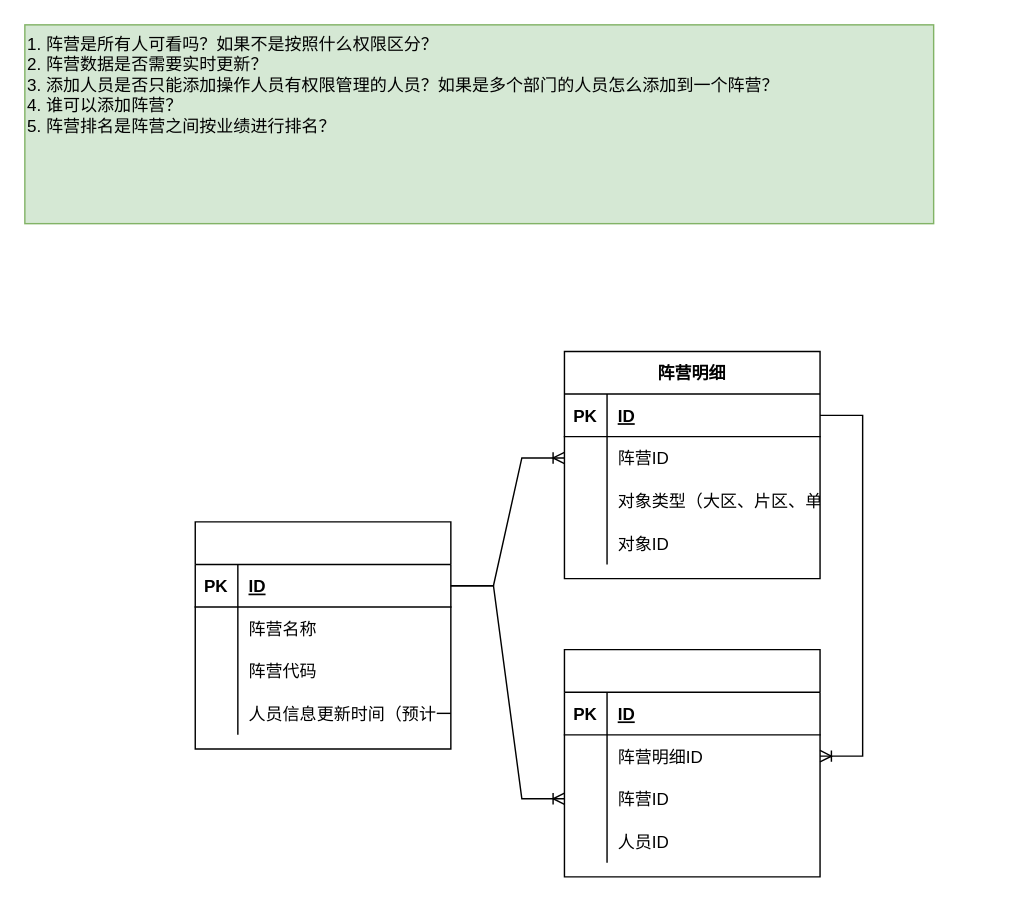
The diagram is 1034 pixels wide and 902 high, and some of its shapes have lost their labels. The shapes that lost their labels are listed below. From the top down, each one's box as (x1, y1, x2, y2) in pixels, then its label:
(194, 520, 451, 749): 阵营
(563, 648, 820, 877): 阵营人员
